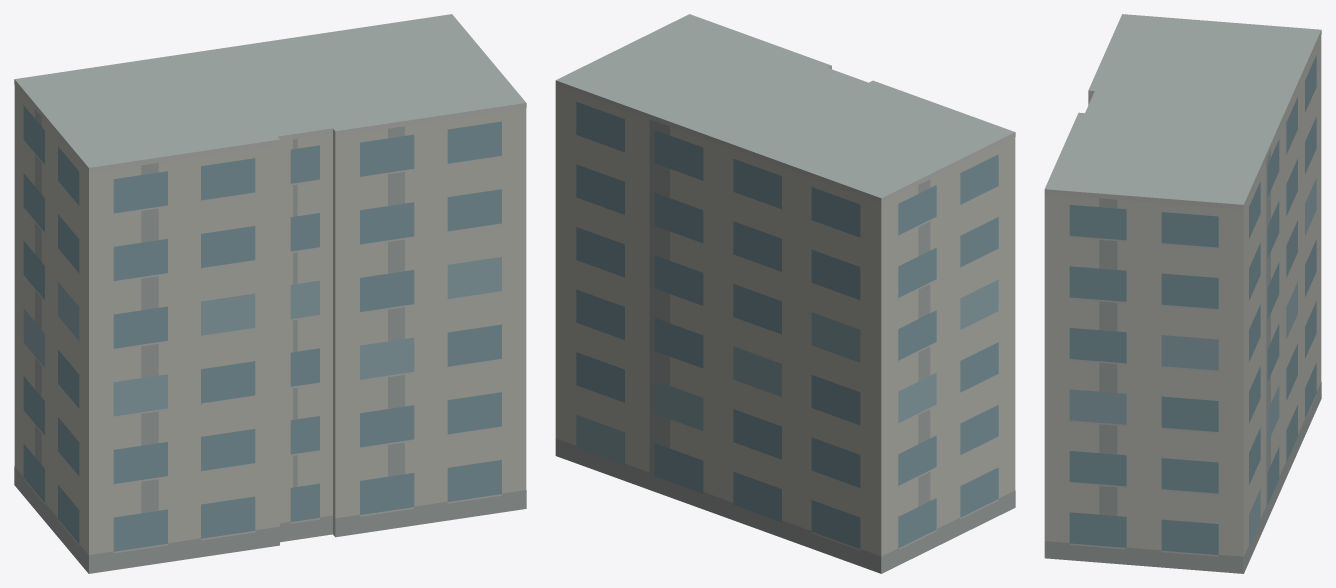
Rendered from survey-upis-32541039.glb.
3 views of the same model, side by side, from view 1: azimuth 30°, elevation 25°; view 2: azimuth 150°, elevation 25°; view 3: azimuth 270°, elevation 25° (orthographic). The views are drawn at different scales.
Visible parts, largest first — view 1: survey-upis-32541039.tmp; view 2: survey-upis-32541039.tmp; view 3: survey-upis-32541039.tmp.
Part boxes in pixels (left/top/right/bottom): survey-upis-32541039.tmp: left=14, top=14, right=526, bottom=573; survey-upis-32541039.tmp: left=555, top=14, right=1015, bottom=573; survey-upis-32541039.tmp: left=1044, top=14, right=1321, bottom=573.
Size of the model in its own units: 20.52 by 18.5 by 12.59.
